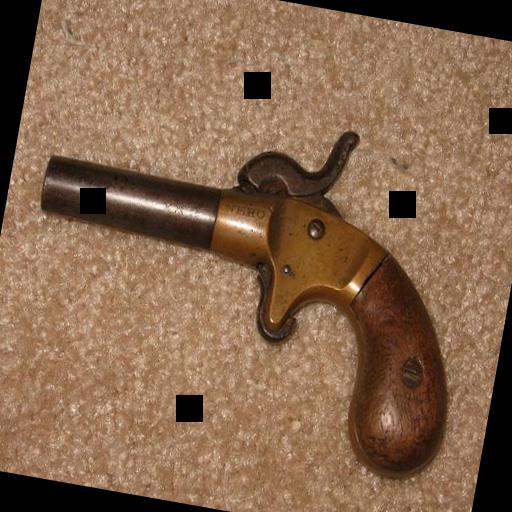Handgun: (0, 75, 487, 480)
